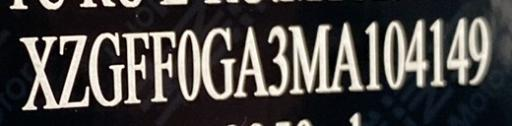letter: (16, 33, 60, 108), (287, 22, 331, 92), (87, 30, 125, 108), (234, 24, 270, 98), (202, 25, 236, 101), (330, 19, 364, 91), (58, 33, 90, 107), (147, 29, 177, 103), (120, 31, 150, 103), (445, 15, 473, 88), (380, 18, 408, 91), (466, 14, 494, 86), (176, 28, 202, 102), (404, 16, 430, 88), (266, 23, 290, 97), (428, 16, 448, 89), (363, 20, 383, 91)
